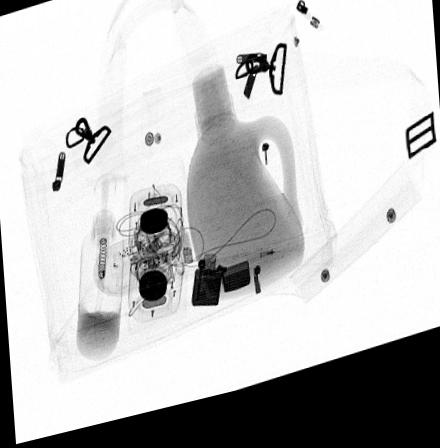Lighter: (190, 263, 250, 316)
